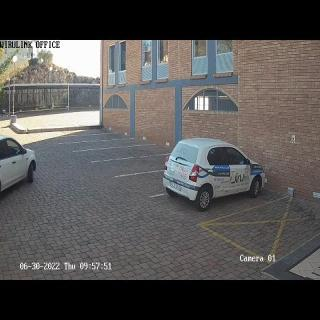car: (163, 138, 266, 210), (0, 134, 36, 198)
